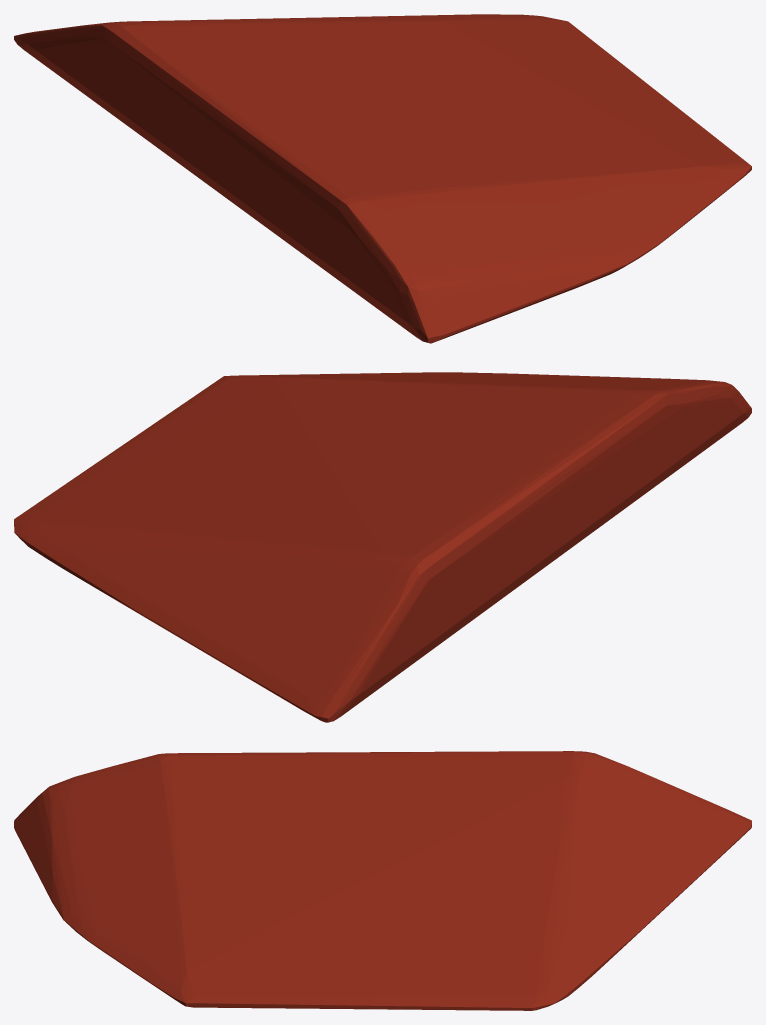
File: left-shin-0_part_15.obj
3 views of the same model, one above another, from view 1: azimuth 30°, elevation 25°; view 2: azimuth 150°, elevation 25°; view 3: azimuth 270°, elevation 25° (orthographic). The views are drawn at different scales.
Size of the model in its own units: 0.0293 by 0.00597 by 0.0483.
